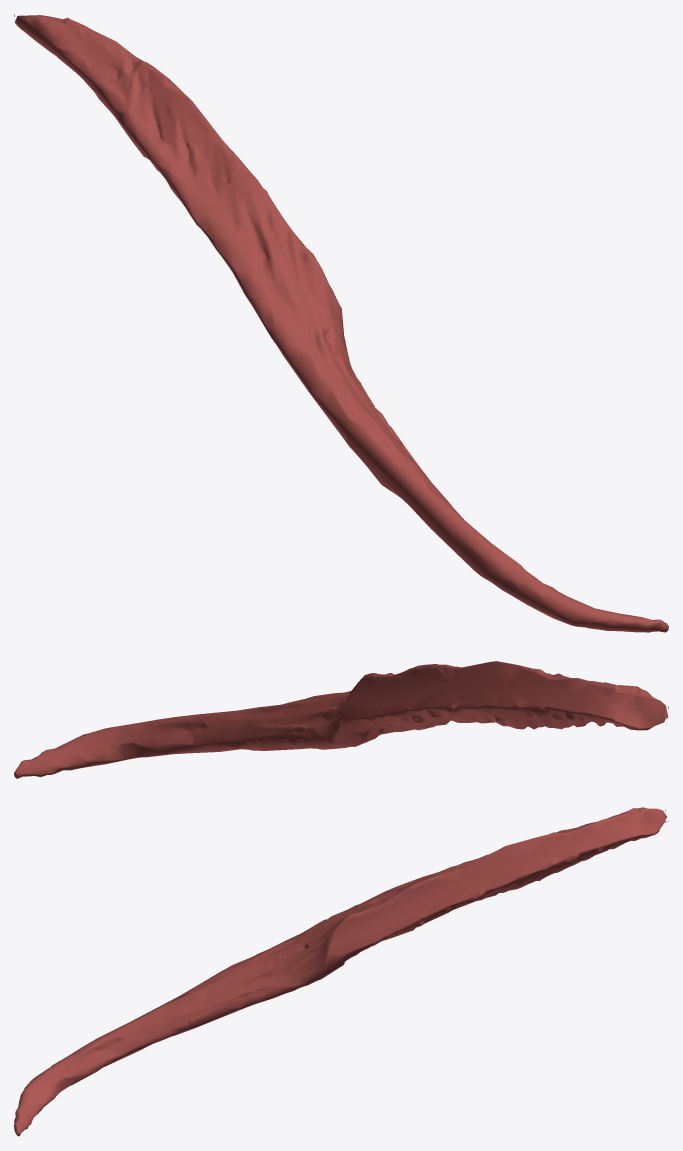
File: FMA37746.glb
3 renders of one model, top to bottom at view 1: azimuth 30°, elevation 25°; view 2: azimuth 210°, elevation 25°; view 3: azimuth 270°, elevation 25°, orthographic. The views are drawn at different scales.
Visible parts, largest first — view 1: FMA37746; view 2: FMA37746; view 3: FMA37746.
Boxes of the visible parts, <box> form: FMA37746: <box>14,14,668,632</box>; FMA37746: <box>14,661,668,778</box>; FMA37746: <box>14,807,668,1136</box>.
Size of the model in its own units: 0.0147 by 0.0235 by 0.0539.
